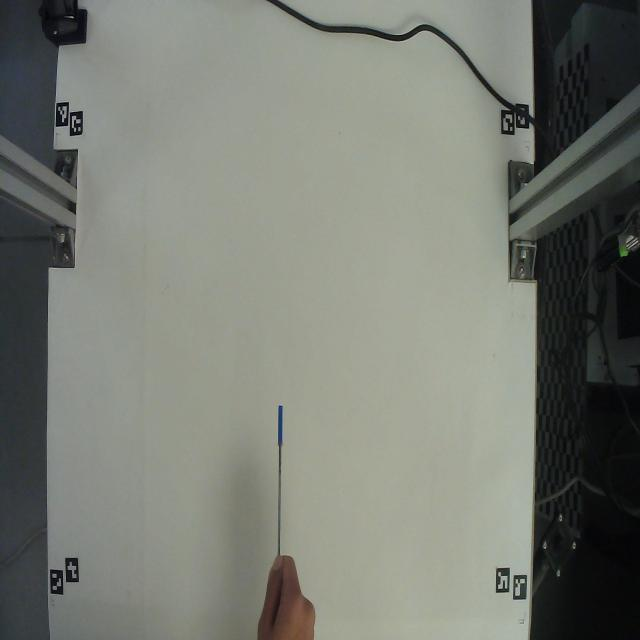NoPres: (263, 381, 296, 569)
